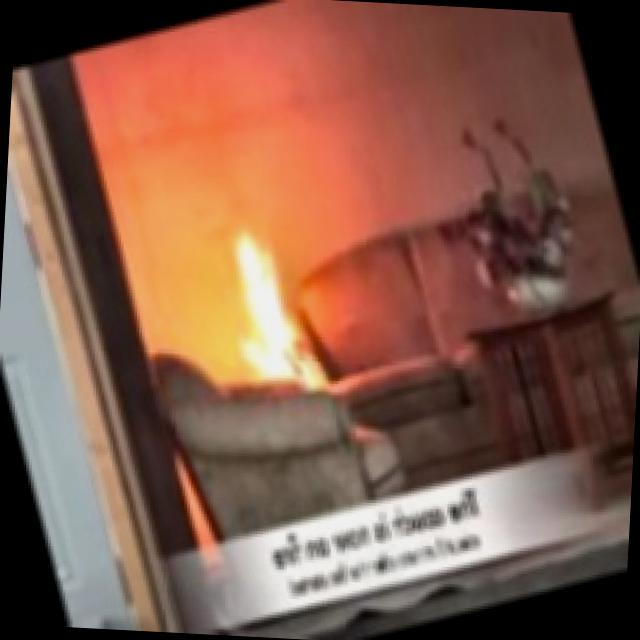fire: (184, 209, 327, 384)
